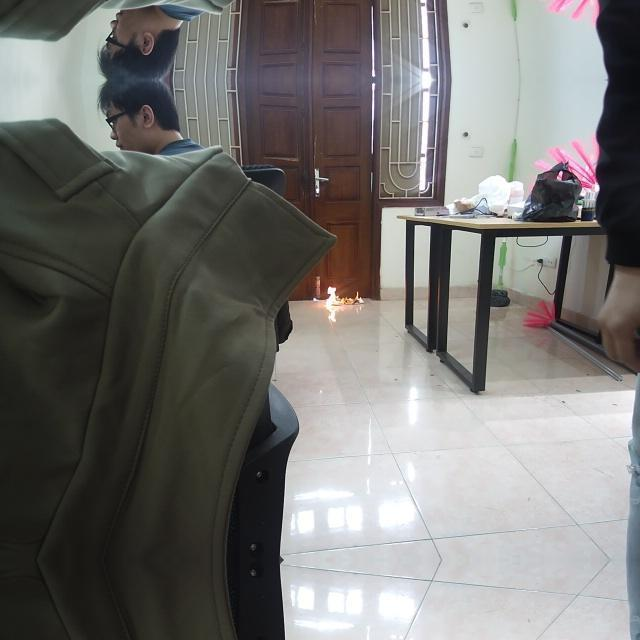smoke: (324, 284, 366, 306)
